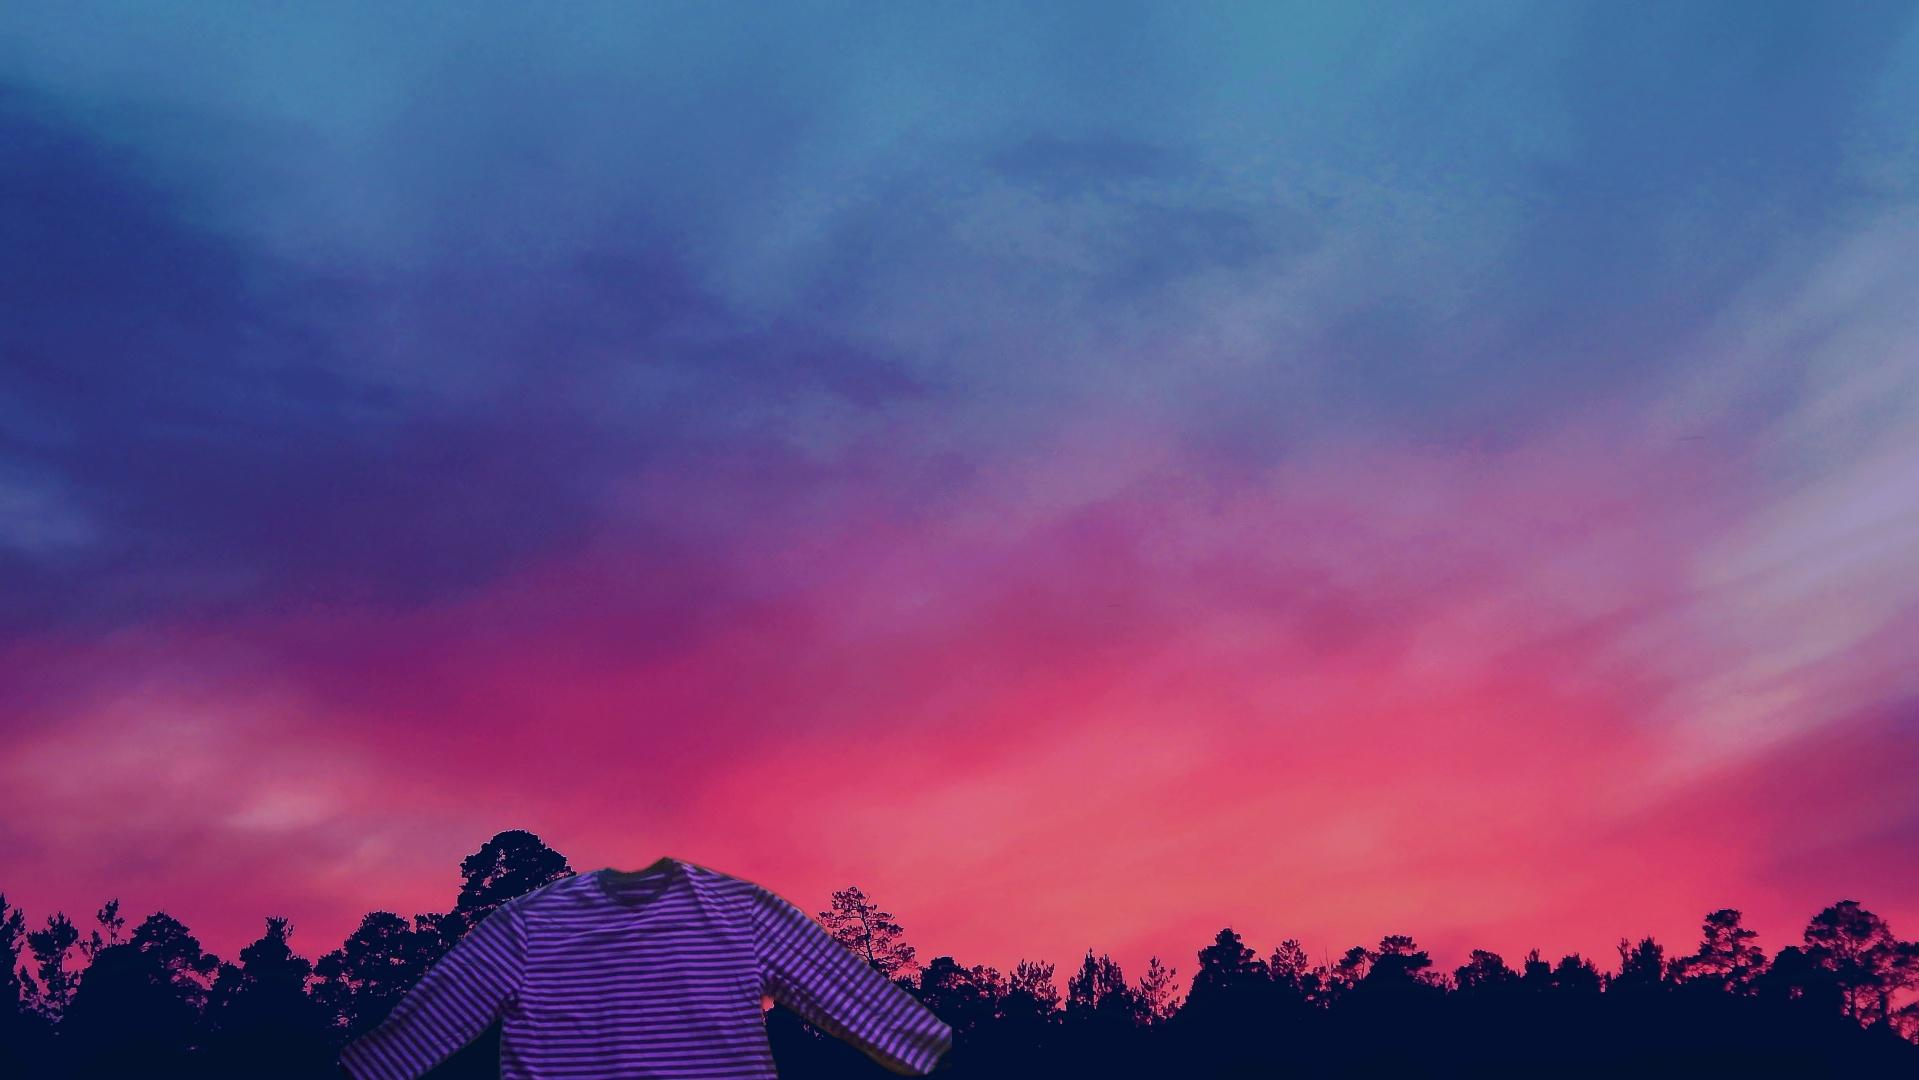clothes: (340, 853, 952, 1080)
